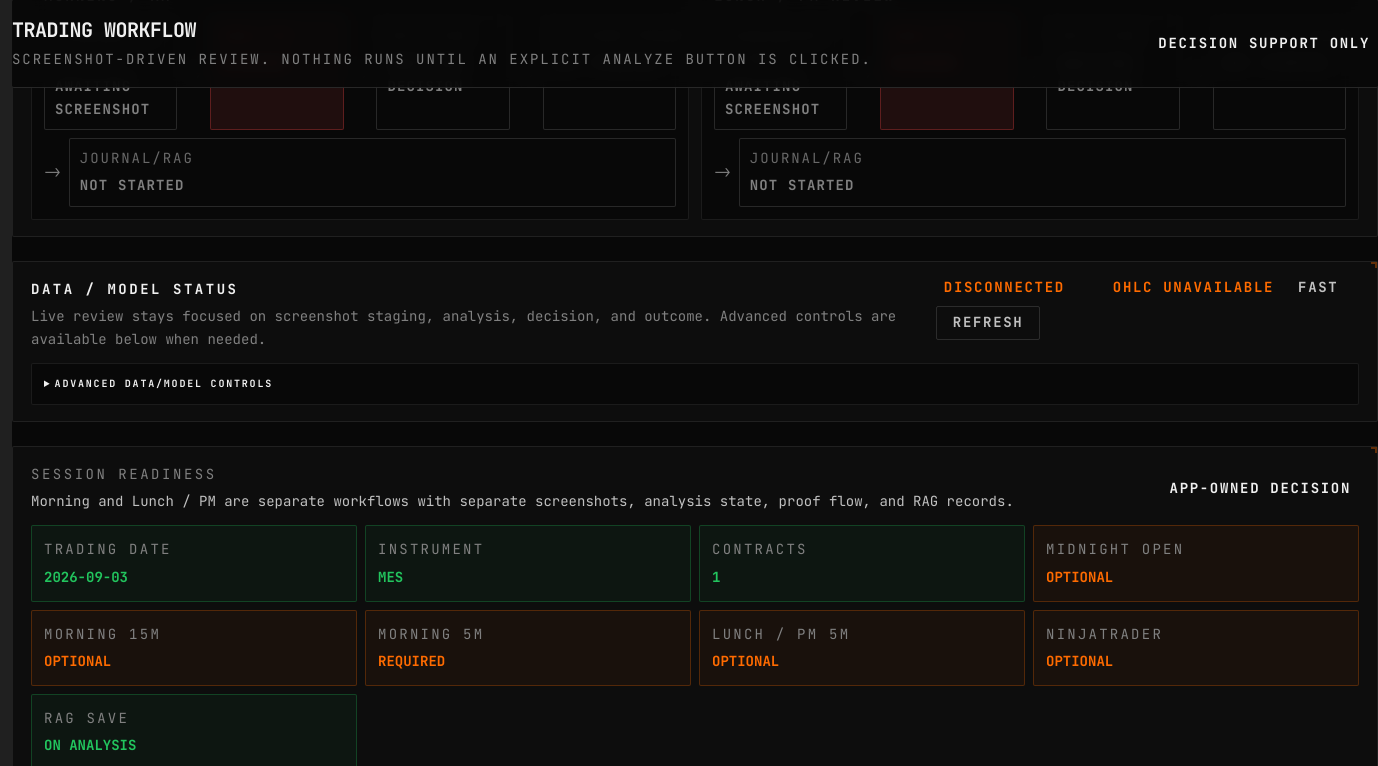
it: SessionLab shell › renders the Trading Workflow shell with workflow components wired together
(page scrolled)
Expected: the heading "TRADING WORKFLOW" is shown, [12,17,196,43]
Expected: the text "Screenshot staged" is shown, [55,25,166,71]
Click the heading "Advanced data/model controls": [164, 383] box [55,377,273,390]
(page scrolled)
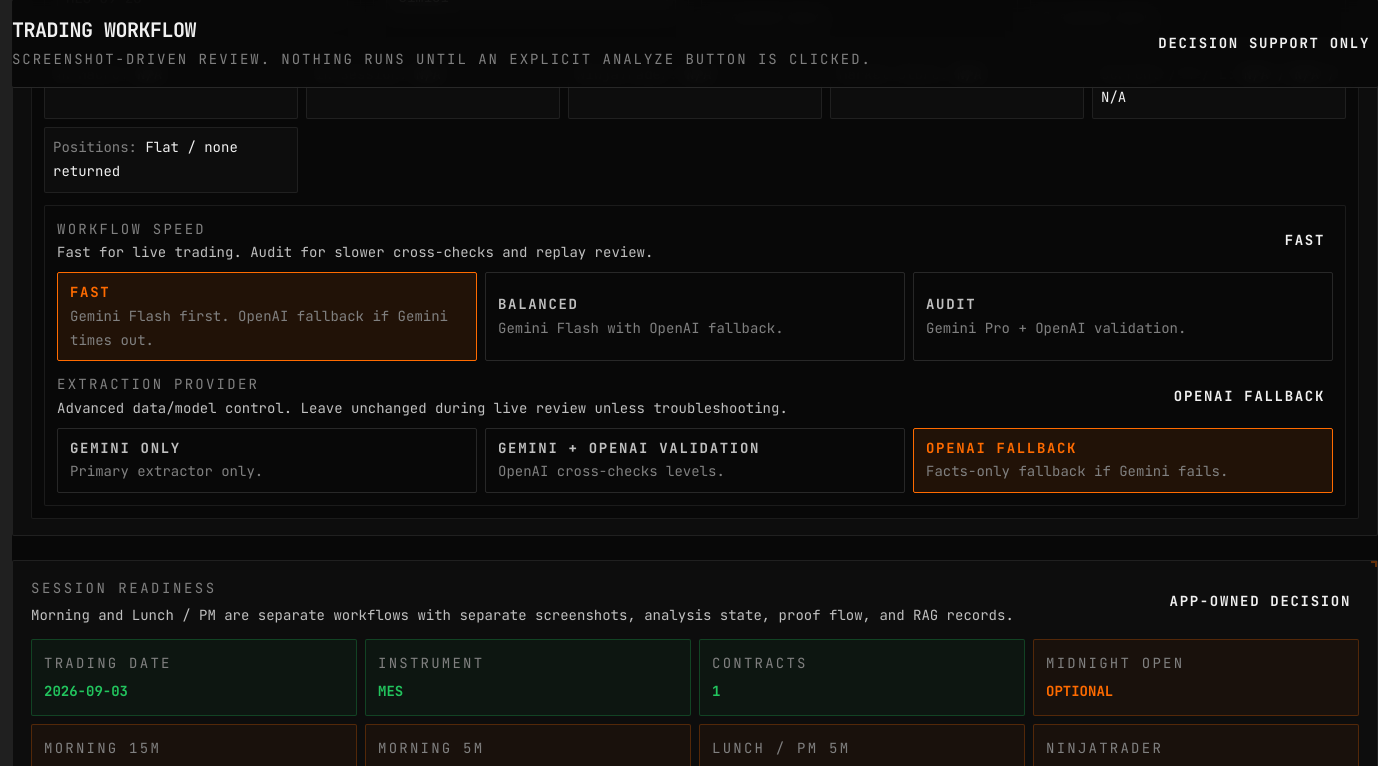
Result: the text "Workflow Speed" is shown at [57,220,206,238]
Result: the text "Extraction Provider" is shown at [57,375,259,393]
